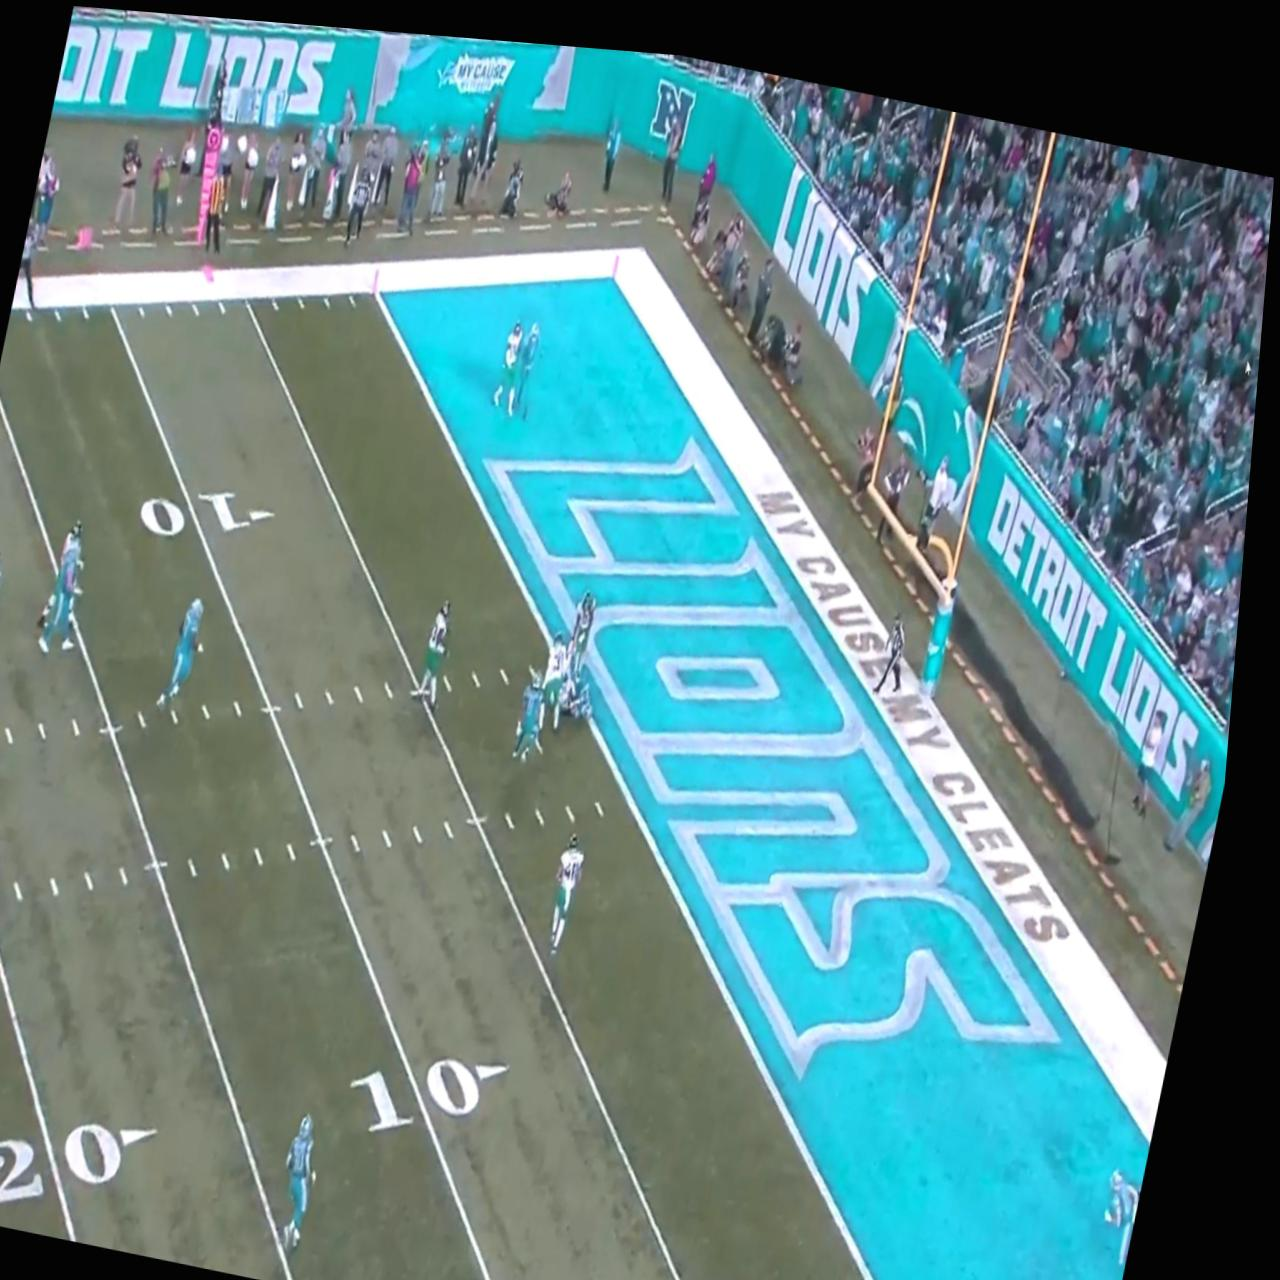10R: (358, 1024, 529, 1149), (144, 470, 287, 553)
20R: (0, 1092, 179, 1234)
